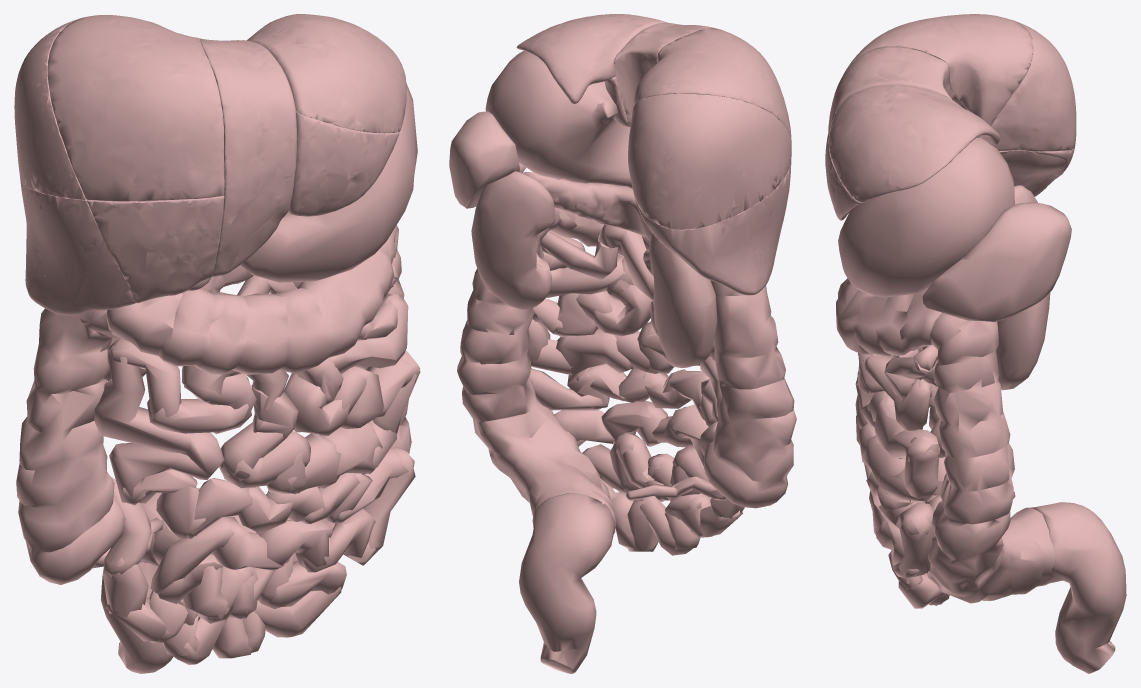
Rendered from abdomen-organos.glb.
3 renders of one model, left to right at view 1: azimuth 30°, elevation 25°; view 2: azimuth 150°, elevation 25°; view 3: azimuth 270°, elevation 25°, orthographic. The views are drawn at different scales.
Visible parts, largest first — view 1: higado, intestino_delgado, intestino_grueso, estomago, recto, pancreas; view 2: higado, intestino_delgado, intestino_grueso, estomago, recto, rinon_izquierdo, rinon_derecho, bazo, pancreas; view 3: higado, intestino_grueso, intestino_delgado, estomago, bazo, recto, rinon_izquierdo.
Part boxes in pixels (x1,y1,x2,y2): higado: (14, 14, 406, 315); intestino_delgado: (94, 264, 420, 664); intestino_grueso: (16, 225, 411, 584); estomago: (240, 83, 417, 282); recto: (100, 488, 199, 673); pancreas: (201, 265, 253, 294); higado: (516, 14, 791, 295); intestino_delgado: (527, 224, 744, 555); intestino_grueso: (457, 207, 796, 533); estomago: (485, 50, 632, 188); recto: (519, 492, 615, 673); rinon_izquierdo: (471, 171, 555, 309); rinon_derecho: (649, 233, 717, 368); bazo: (449, 111, 526, 208); pancreas: (523, 172, 653, 275); higado: (825, 14, 1076, 220); intestino_grueso: (836, 278, 1055, 603); intestino_delgado: (855, 345, 949, 608); estomago: (838, 137, 1014, 297); bazo: (922, 202, 1071, 321); recto: (1032, 502, 1126, 673); rinon_izquierdo: (996, 292, 1050, 390).
Size of the model in its own units: 0.2437 by 0.4255 by 0.1907.
